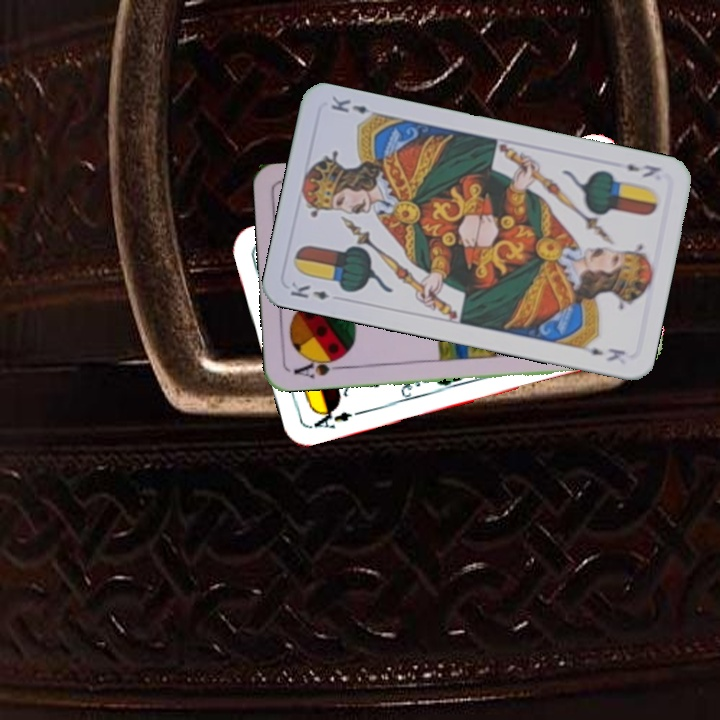EA: (305, 402, 363, 432)
EK: (286, 278, 332, 303), (622, 160, 664, 180)
SA: (290, 353, 348, 381)
